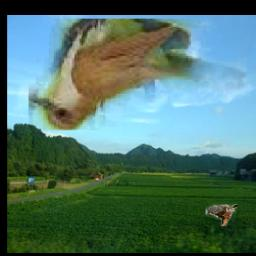Cuckoo: (29, 19, 247, 130)
Sparrow: (205, 204, 238, 226)
